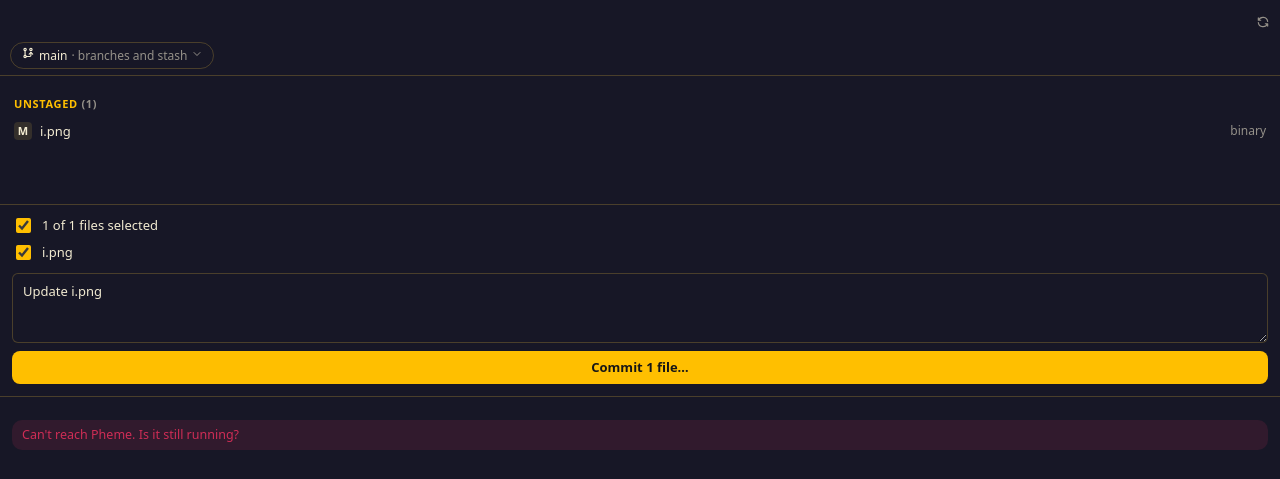
Test: ChangesPanel › shows a friendly line for a binary diff and an empty one
Click the button "M i.png binary".
click(55, 130)  # box 8,116 -> 1272,146
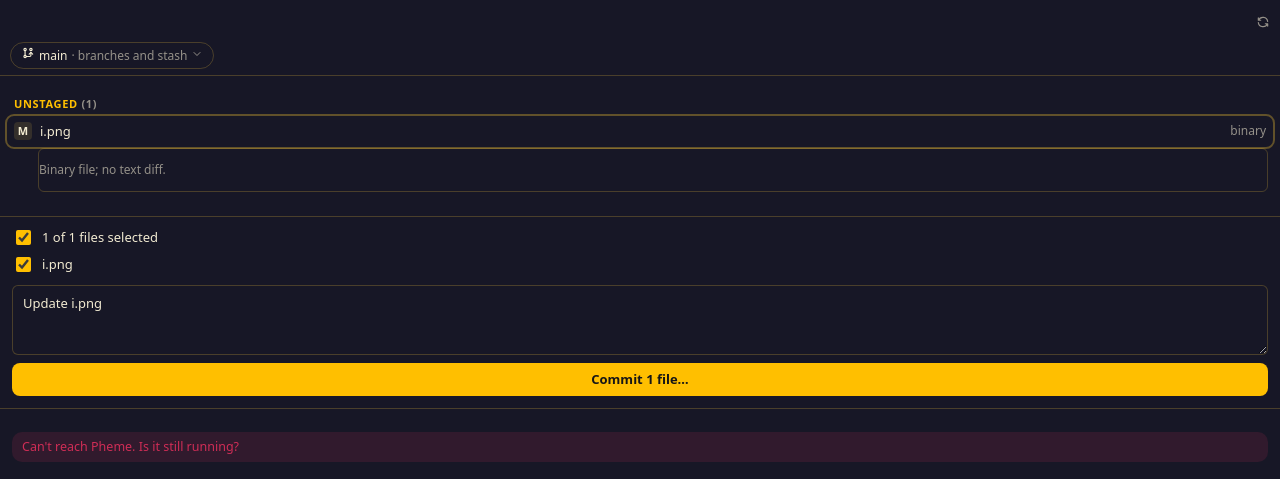
Check: the text "Binary file; no text diff." is shown, box 39,161 -> 166,178
